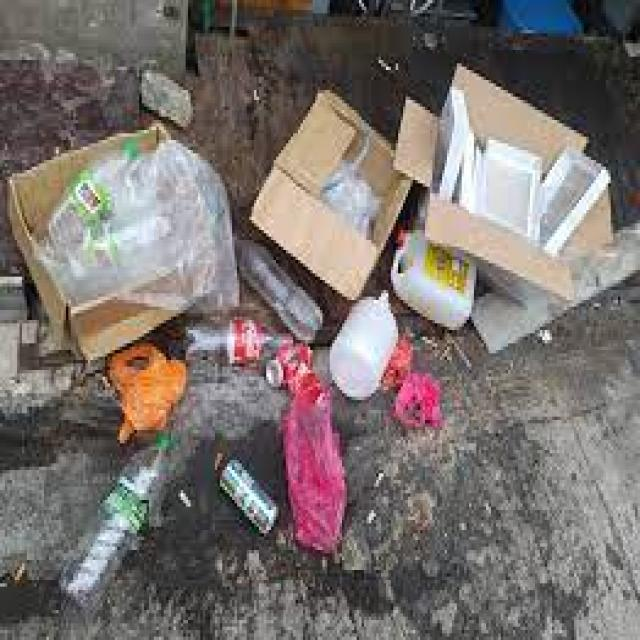cardboard: (410, 60, 628, 247), (286, 93, 396, 297)
metal: (218, 457, 274, 533)
plastic: (54, 434, 181, 584), (286, 383, 332, 550), (176, 320, 313, 373), (396, 230, 476, 320), (190, 324, 306, 374)
